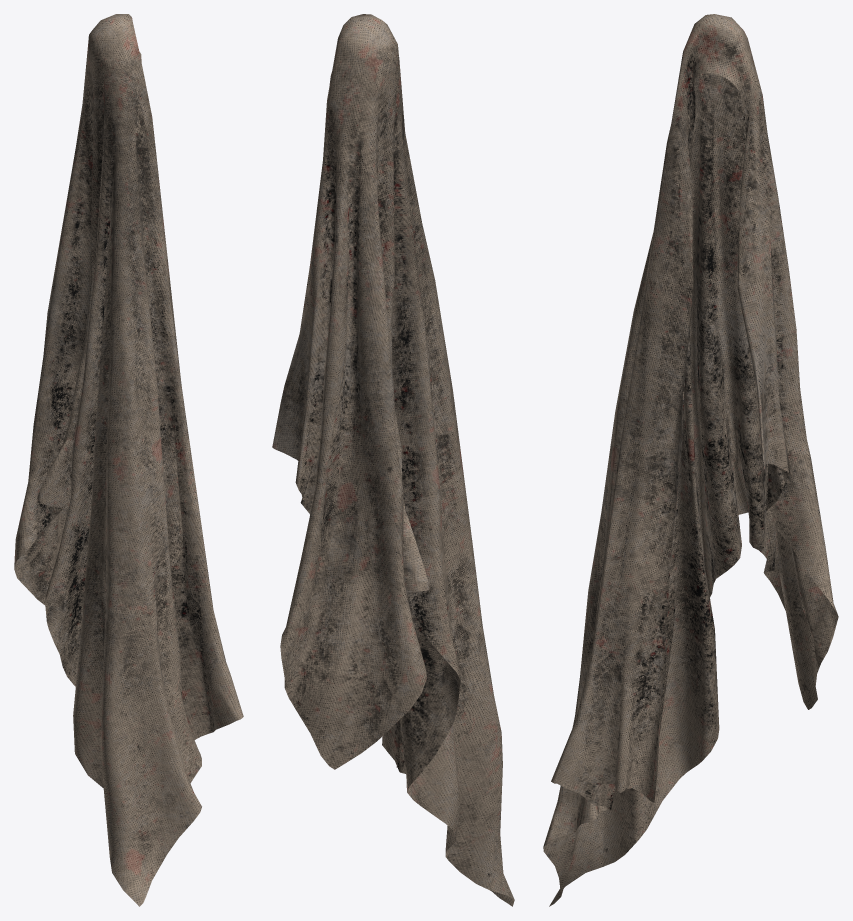
File: low_poly_hanging_cloth_5 (1).glb
3 renders of one model, left to right at view 1: azimuth 30°, elevation 25°; view 2: azimuth 150°, elevation 25°; view 3: azimuth 270°, elevation 25°, orthographic. The views are drawn at different scales.
Visible parts, largest first — view 1: fabric; view 2: fabric; view 3: fabric.
Part boxes in pixels (<box>): fabric: <box>14,14,243,906</box>; fabric: <box>272,14,514,906</box>; fabric: <box>543,14,838,906</box>.
Size of the model in its own units: 1.87 by 10.31 by 3.
Materials: 1 (1 with a texture image).
